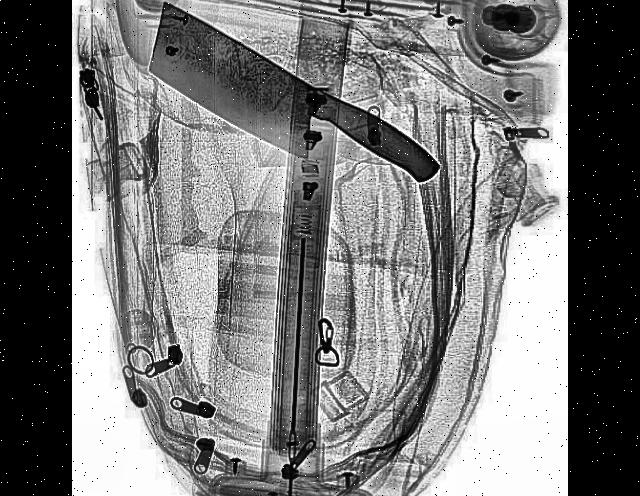Knife: (143, 0, 446, 222)
